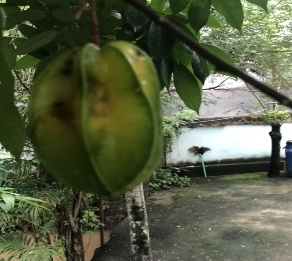Khe: (24, 40, 167, 205)
